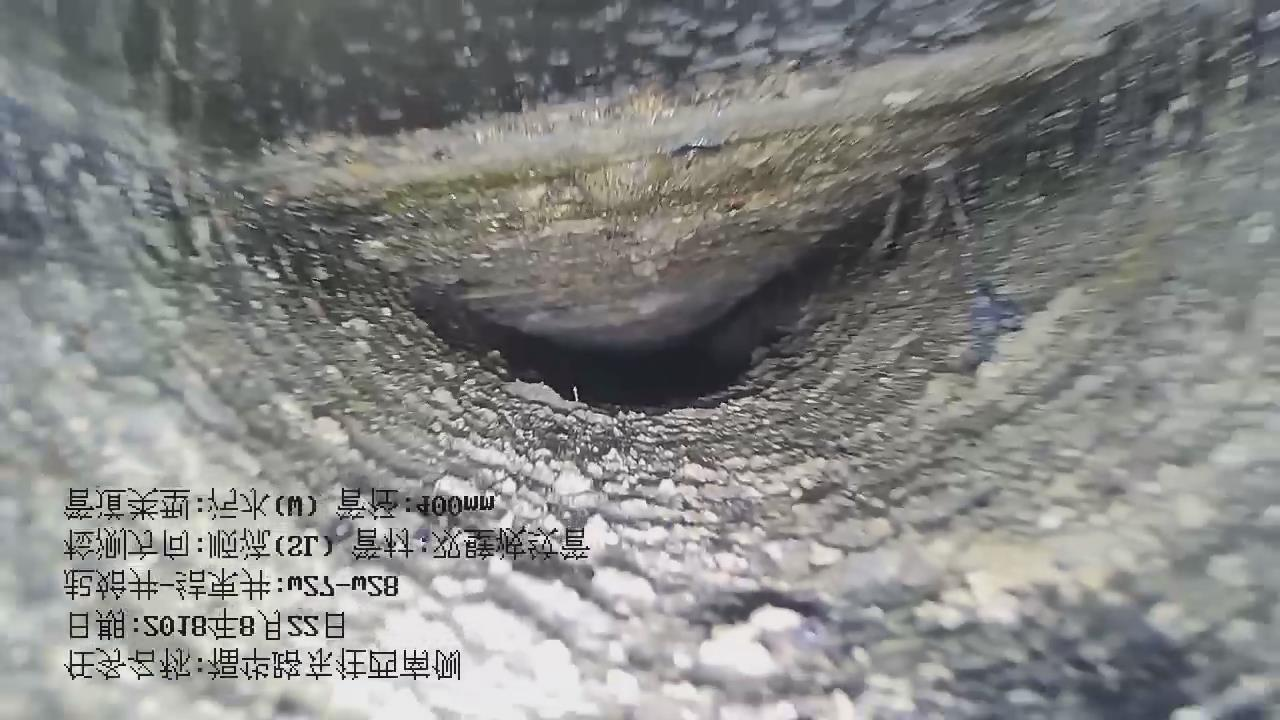FZ: (15, 4, 1142, 350)
JG: (0, 22, 1279, 720)
